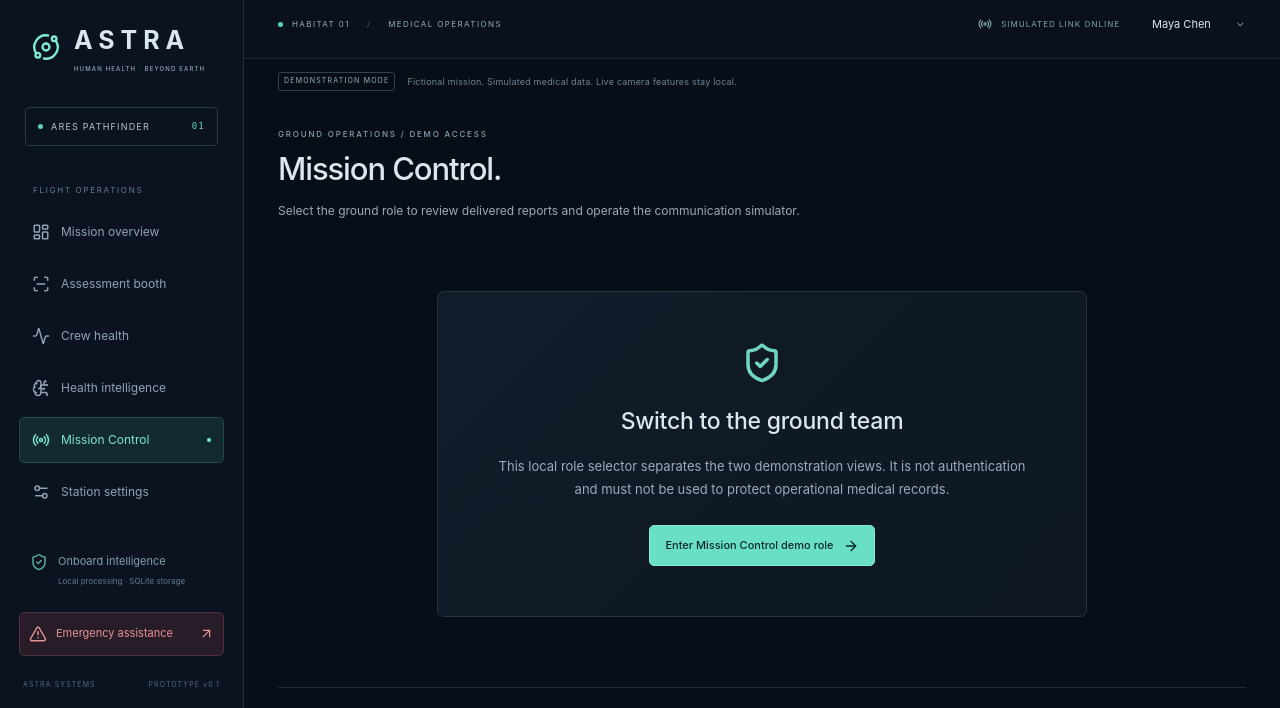
Scenario: requires ground role and operates actual queued-record controls
Step 1. Click the button "Enter Mission Control demo role" → (762, 546), box 649,525 -> 875,566
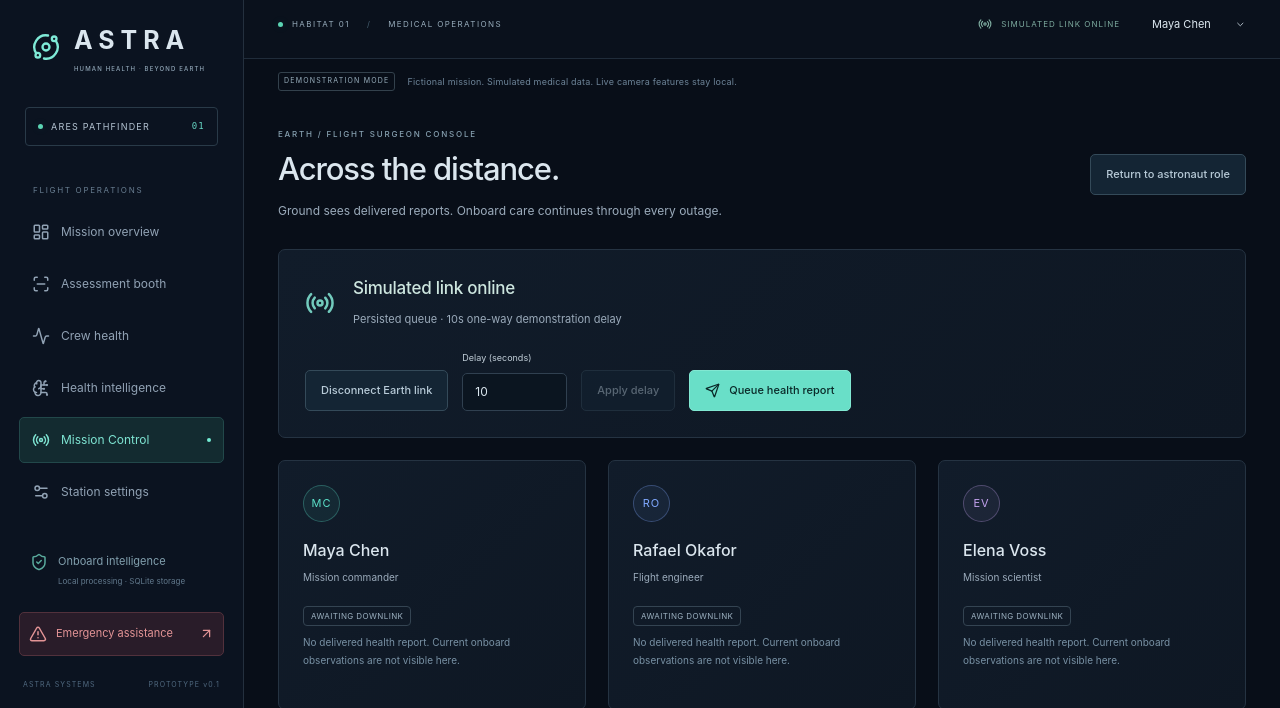
Expected: the heading "Across the distance." is shown, 278,150 -> 559,186
Step 2. Click the button "Queue health report" → (770, 390), box 689,370 -> 851,410
(page scrolled)
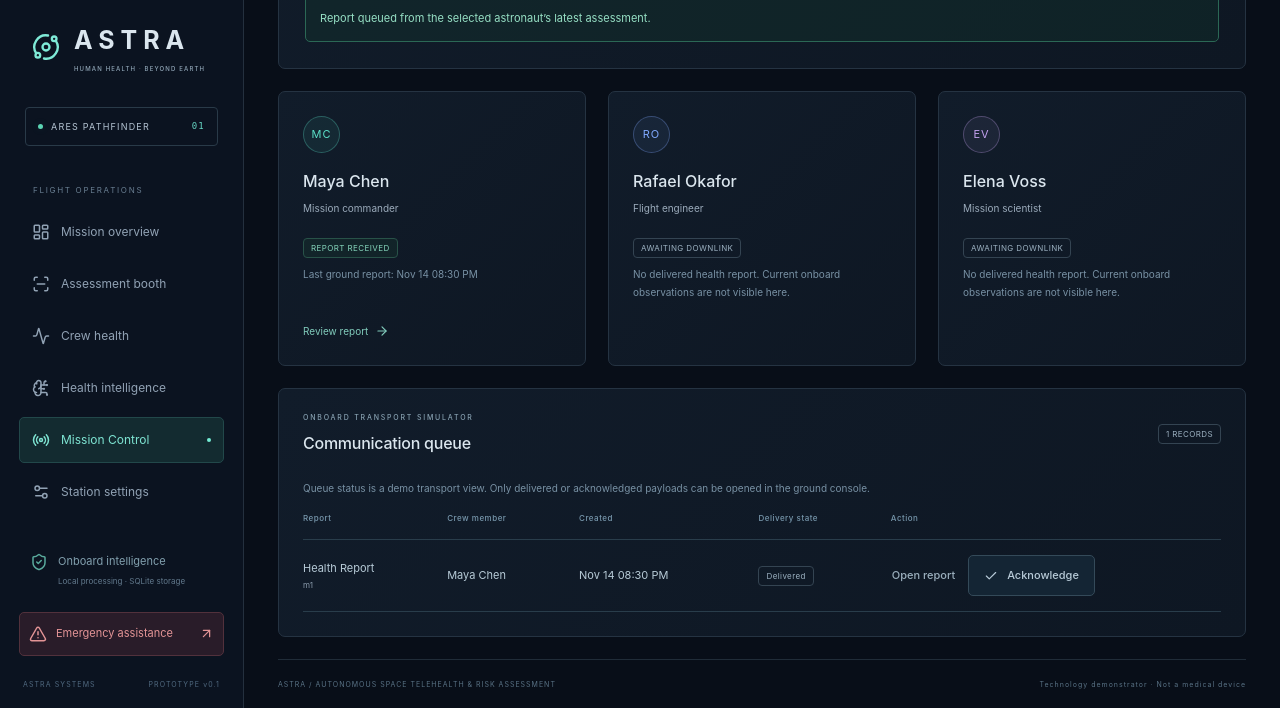
Expected: the button "Acknowledge" is enabled
Step 3. Click the button "Acknowledge" → (1032, 576), box 968,556 -> 1095,596
(page scrolled)
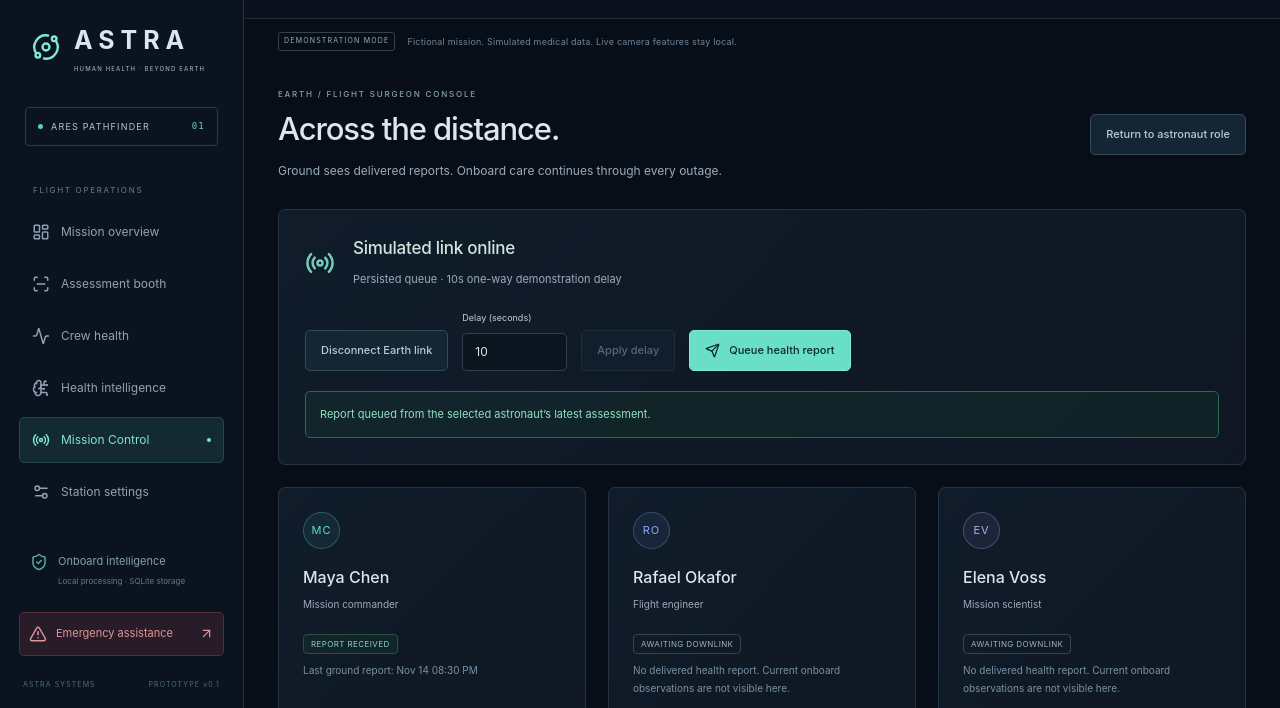
Step 4. Click the button "Disconnect Earth link" → (377, 350), box 305,330 -> 448,370
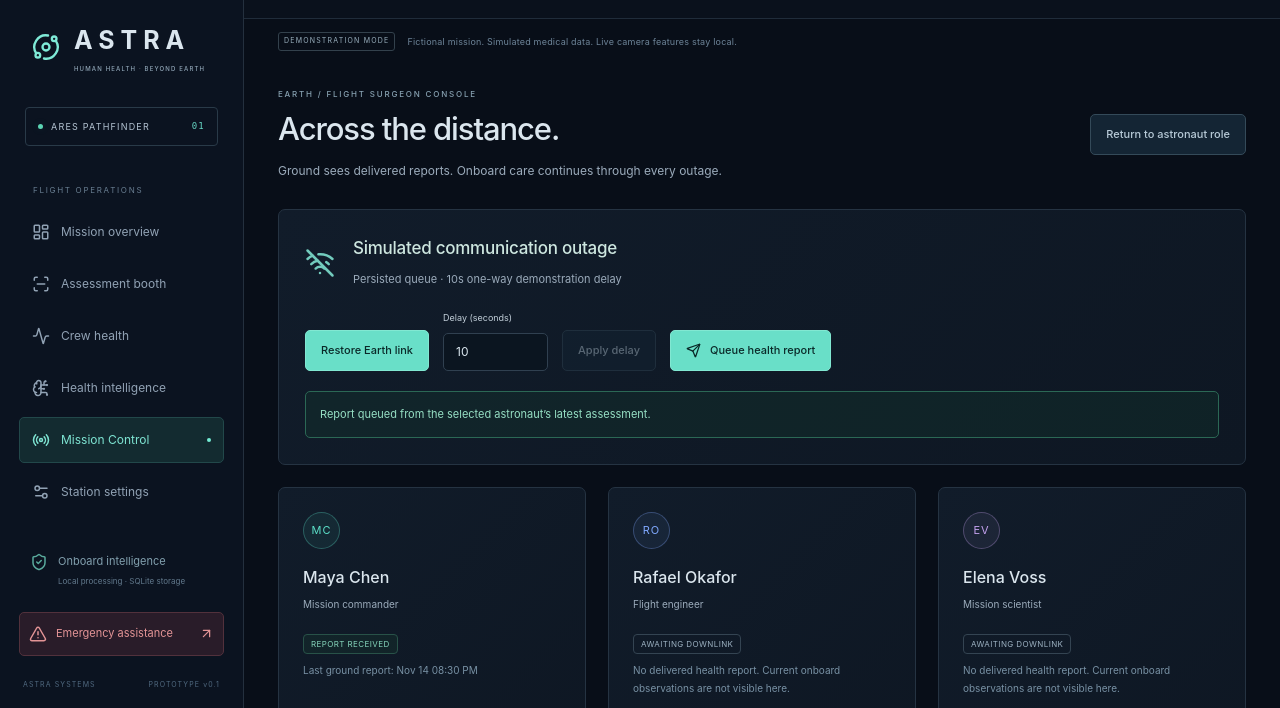
Expected: the button "Restore Earth link" is shown, 305,330 -> 429,370
